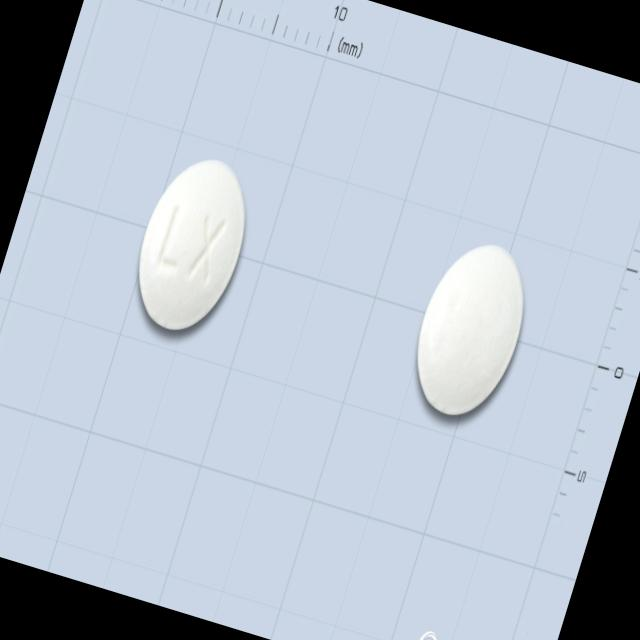Levoxacin -250mg: (120, 146, 264, 344)
